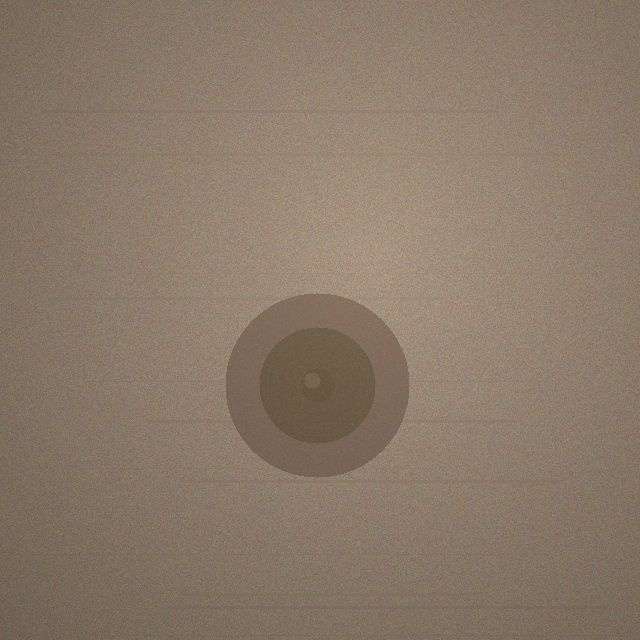good: (225, 293, 409, 477)
